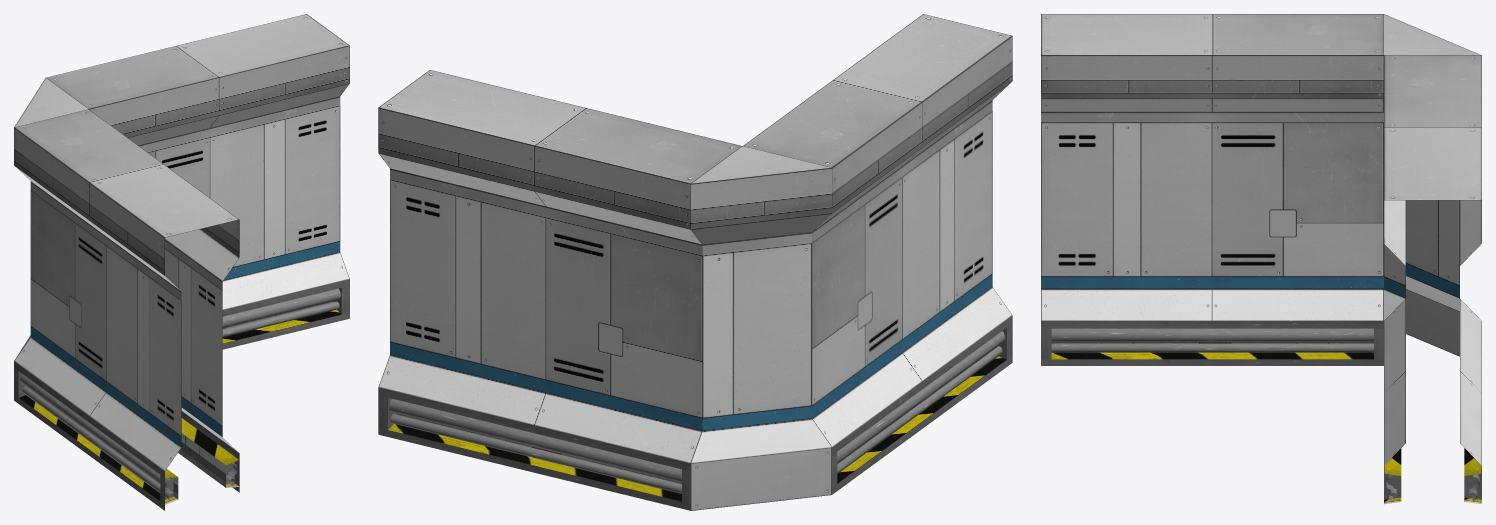
File: Corner_Short_01.FBX
3 views of the same model, side by side, from view 1: azimuth 30°, elevation 25°; view 2: azimuth 150°, elevation 25°; view 3: azimuth 270°, elevation 25° (orthographic). The views are drawn at different scales.
Visible parts, largest first — view 1: Corner_Short_01; view 2: Corner_Short_01; view 3: Corner_Short_01.
Boxes of the visible parts, box(x1,y1,x2,y2) form: Corner_Short_01: box(14, 14, 349, 510); Corner_Short_01: box(378, 14, 1012, 510); Corner_Short_01: box(1041, 14, 1481, 504).
Size of the model in its own units: 180 by 140 by 180.
